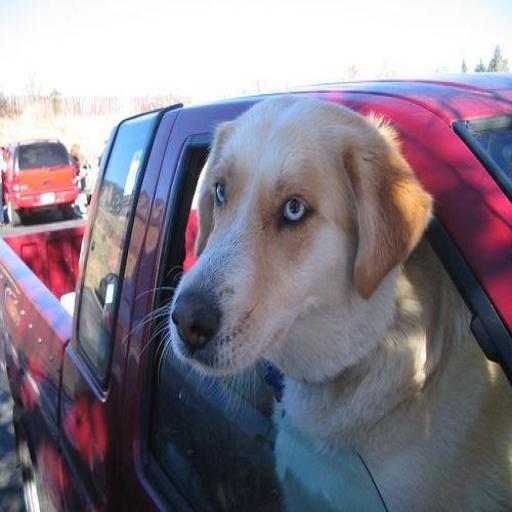dog_face: (172, 92, 416, 368)
